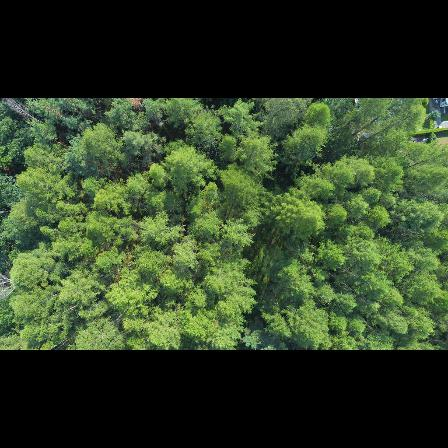Dead: (0, 98, 41, 128)
